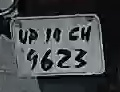1: (44, 26, 52, 46)
2: (54, 48, 73, 71)
3: (73, 46, 89, 70)
4: (51, 25, 63, 45)
6: (39, 48, 56, 72)
9: (26, 49, 40, 74)
C: (66, 26, 81, 43)
H: (80, 24, 94, 43)
P: (28, 29, 40, 46)
U: (18, 28, 29, 46)
